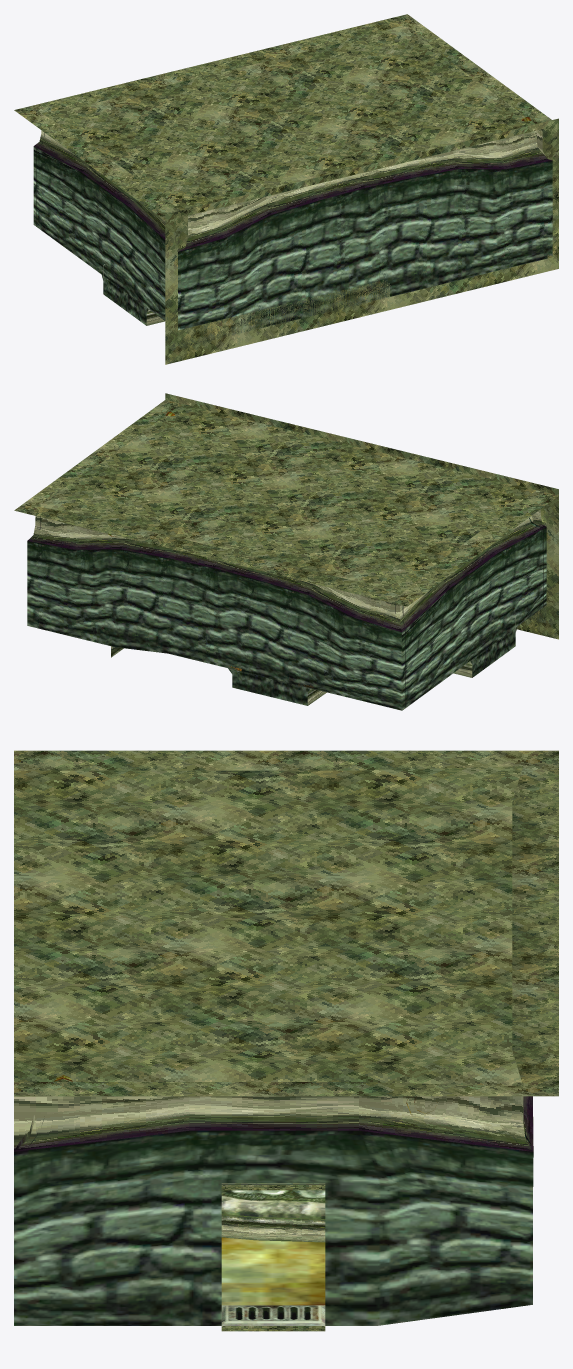
The model's file is room_66.glb.
3 views of the same model, one above another, from view 1: azimuth 30°, elevation 25°; view 2: azimuth 150°, elevation 25°; view 3: azimuth 270°, elevation 25° (orthographic). The views are drawn at different scales.
Parts seen in each view (by area): view 1: room_66; view 2: room_66; view 3: room_66.
Part boxes in pixels (<box>): room_66: <box>14,14,558,364</box>; room_66: <box>14,393,558,710</box>; room_66: <box>14,750,558,1331</box>.
Size of the model in its own units: 1575 by 575 by 1050.
16 materials, 16 textured.
